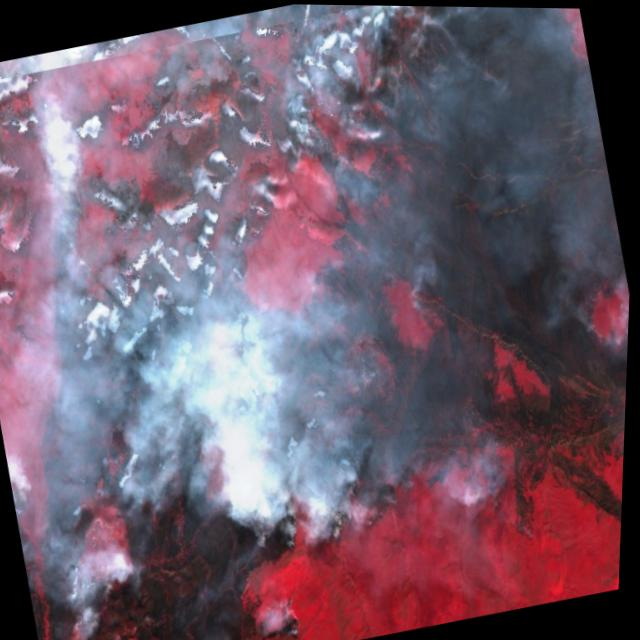fire: (240, 471, 398, 559), (59, 556, 115, 640), (63, 227, 104, 296), (278, 582, 309, 640)
